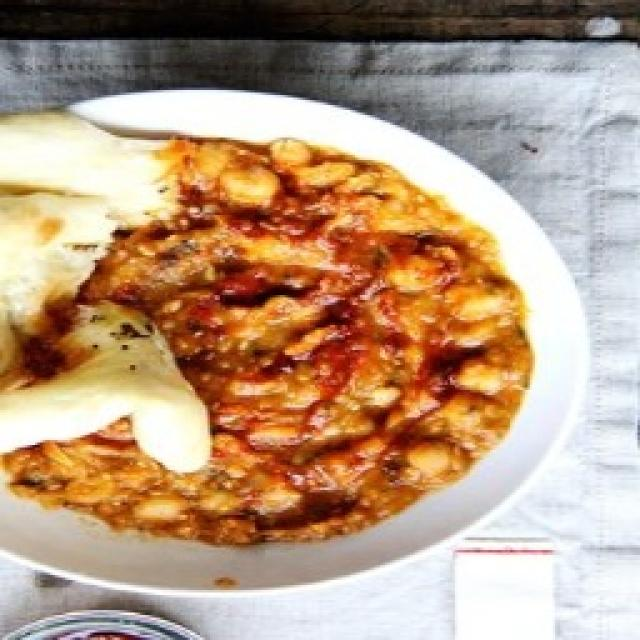Lablabi: (0, 140, 530, 546)
